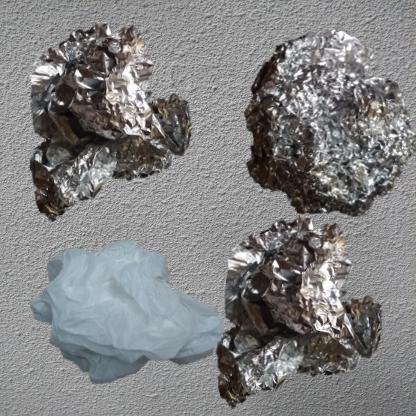aluminio: (213, 10, 416, 259), (10, 10, 207, 229), (213, 213, 385, 409)
bolsa: (10, 213, 275, 416)
